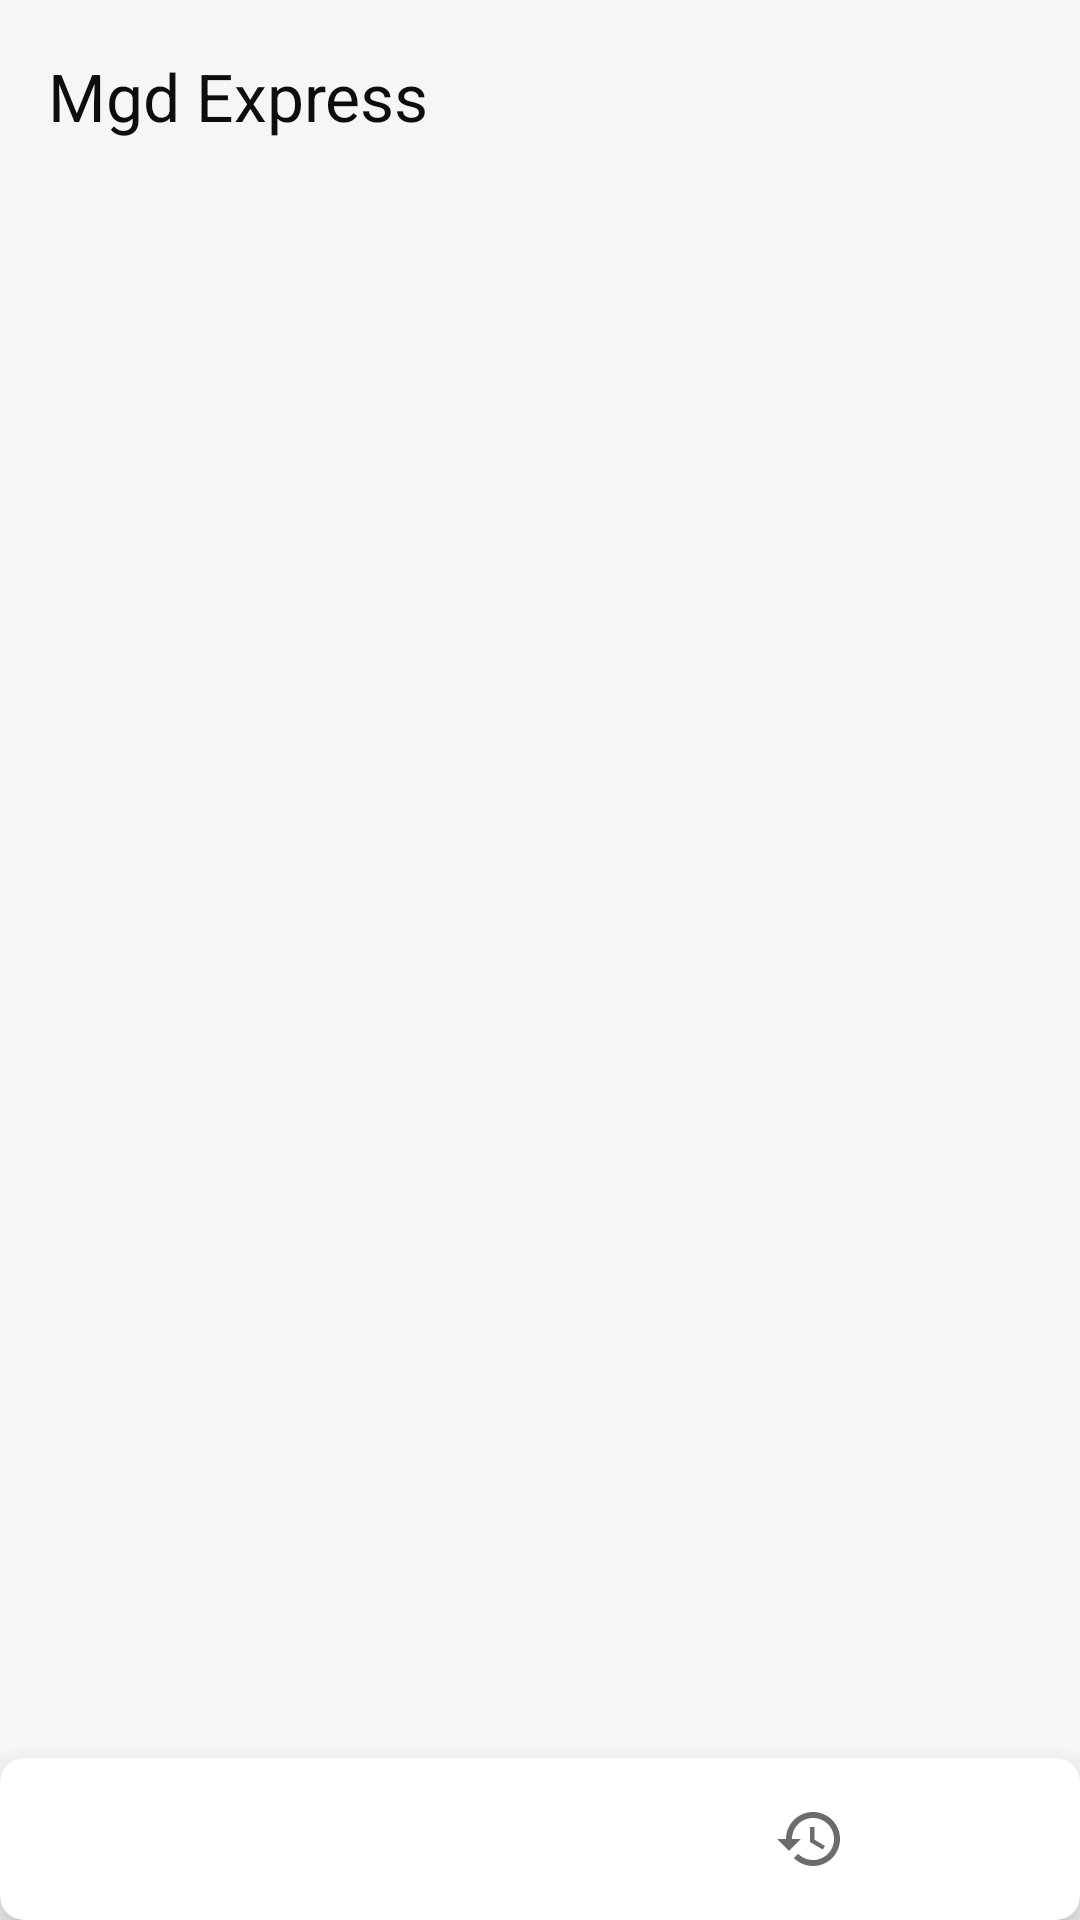

Icon bounding boxes for this 1080w x 1920h phone screenshot, format (x1, y1, x2, y2):
history cinza: (777, 1812, 840, 1866)
